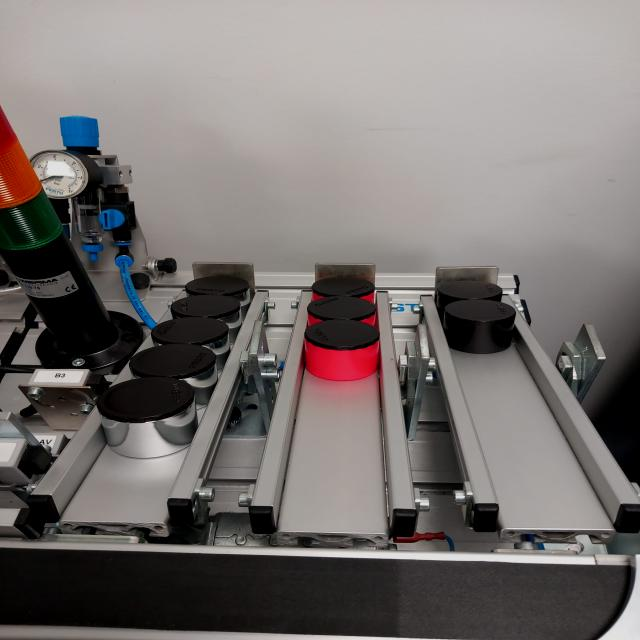Workpiece: (96, 377, 200, 461), (302, 322, 384, 380), (444, 302, 517, 355), (130, 343, 219, 385), (147, 313, 233, 349), (167, 290, 246, 320), (305, 294, 376, 323), (442, 278, 508, 302), (186, 273, 250, 297), (312, 274, 378, 296)
